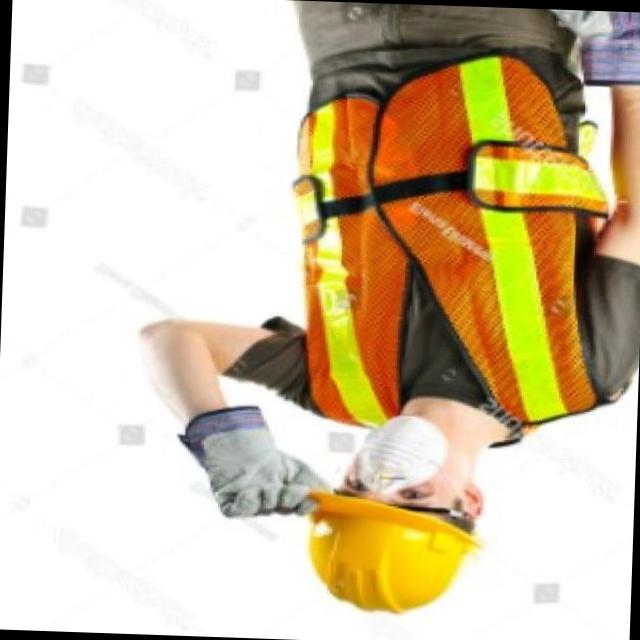gloved: (170, 402, 332, 523), (530, 7, 640, 89)
